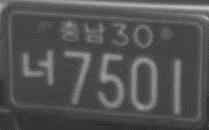0: (128, 56, 158, 110), (133, 23, 153, 48)
1: (167, 58, 193, 114)
3: (110, 22, 129, 46)
5: (96, 52, 125, 109)
7: (62, 49, 91, 106)
너: (22, 48, 54, 85)
충남_O: (59, 19, 105, 44)
